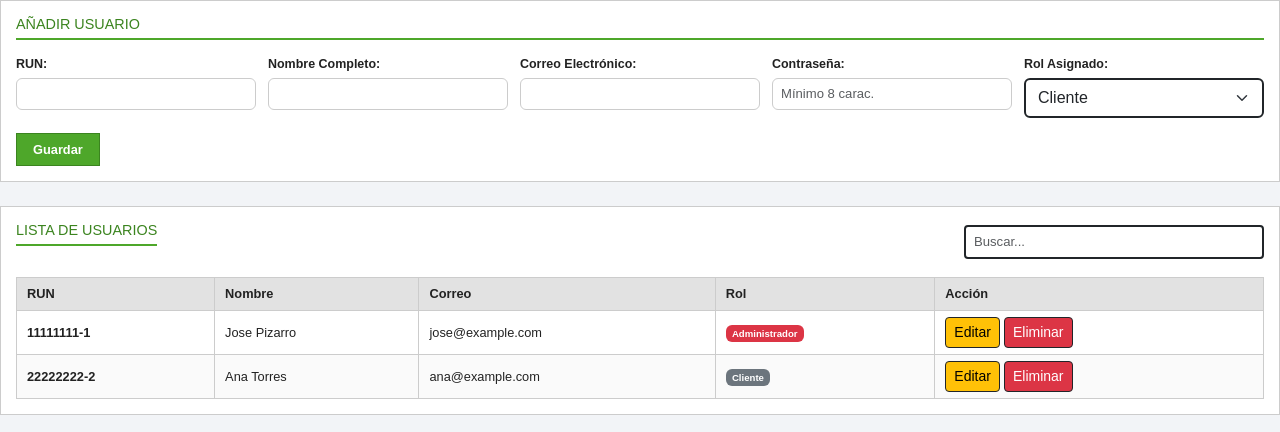
GestionUsuarios › carga los datos al editar un usuario
What coordinates should you click on to do the following:
click the button "Editar" in the row of "11111111-1"
I would click on:
 (973, 332)
Its box is [945, 317, 1000, 348].
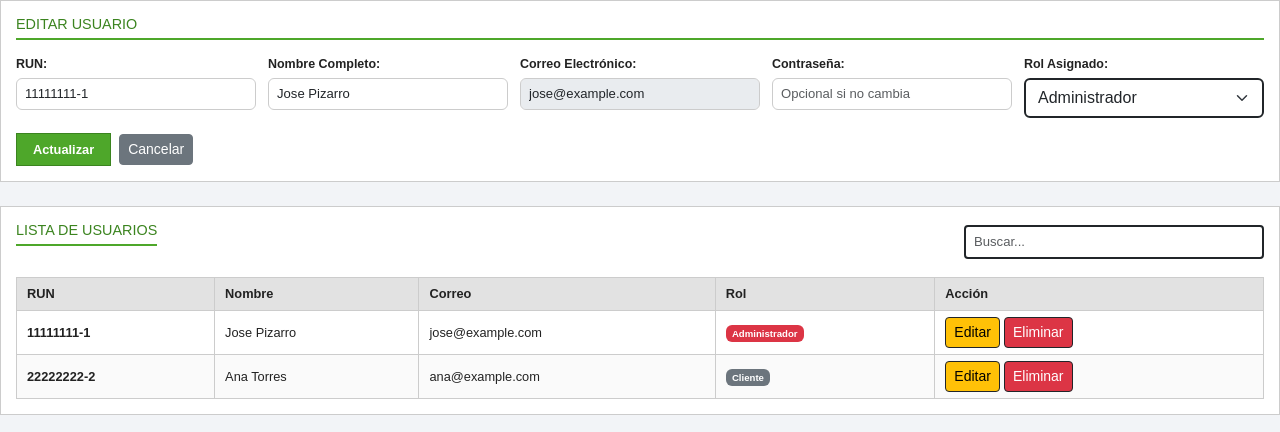
Result: the heading "Editar Usuario" is shown at [16, 16, 1264, 40]
Result: the field below "RUN:" holds "11111111-1" at [16, 78, 256, 110]
Result: the field below "Nombre Completo:" holds "Jose Pizarro" at [268, 78, 508, 110]
